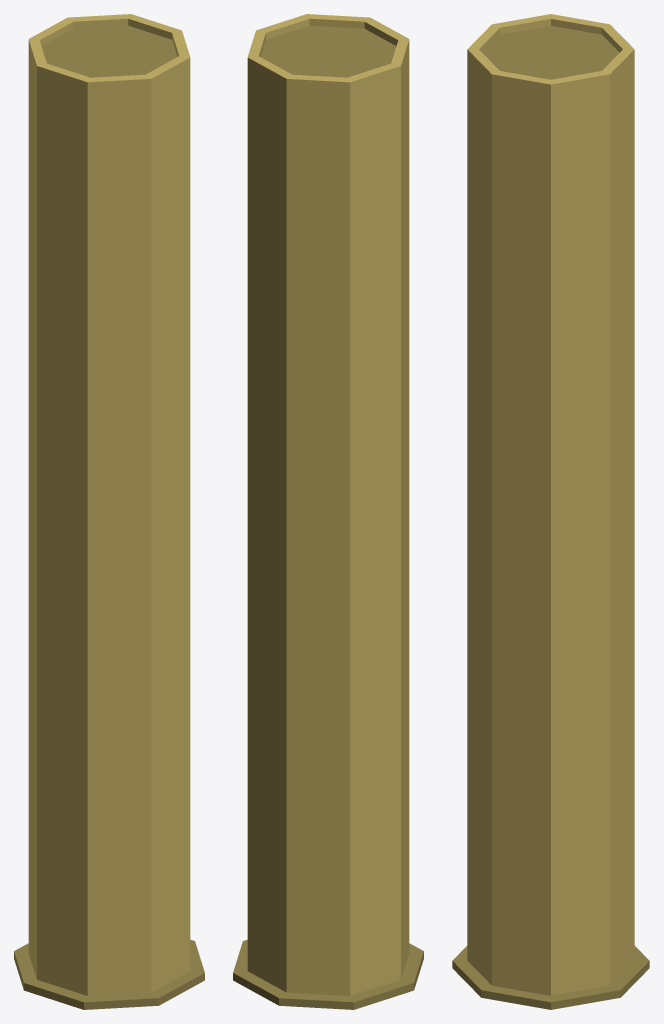
The model's file is cartridges10.fbx.
The picture shows the model from 3 angles, left to right: view 1: azimuth 30°, elevation 25°; view 2: azimuth 150°, elevation 25°; view 3: azimuth 270°, elevation 25°; orthographic projection.
Parts seen in each view (by area): view 1: Cylinder_6; view 2: Cylinder_6; view 3: Cylinder_6.
Part boxes in pixels (bbox=[...]): Cylinder_6: bbox=[14, 14, 204, 1009]; Cylinder_6: bbox=[233, 14, 423, 1009]; Cylinder_6: bbox=[452, 14, 649, 1009].
Bounding box in the file's own units: 19.78 × 102 × 19.78.
